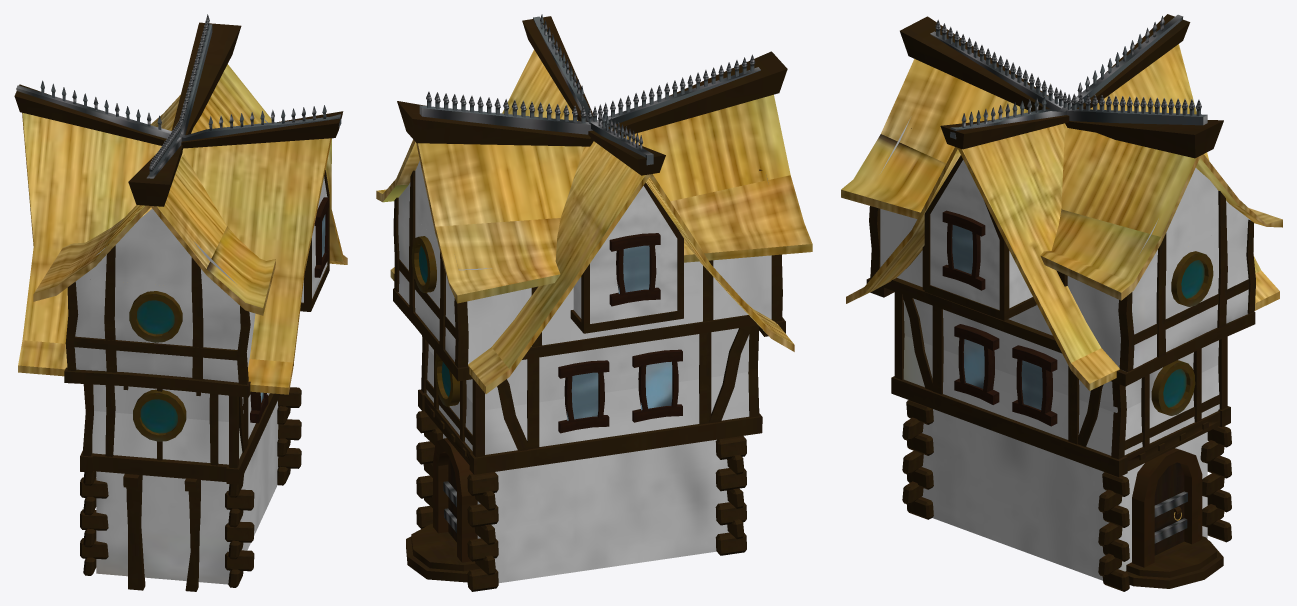
Rendered from german_house_1.glb.
3 renders of one model, left to right at view 1: azimuth 30°, elevation 25°; view 2: azimuth 150°, elevation 25°; view 3: azimuth 270°, elevation 25°, orthographic. The views are drawn at different scales.
Visible parts, largest first — view 1: Box001_Material #88_0; view 2: Box001_Material #88_0; view 3: Box001_Material #88_0.
Part boxes in pixels (x1,y1,x2,y2): Box001_Material #88_0: (14,14,347,591); Box001_Material #88_0: (376,14,812,591); Box001_Material #88_0: (841,14,1282,591).
Size of the model in its own units: 4.27 by 5.23 by 4.37.
Materials: 1 (1 with a texture image).
